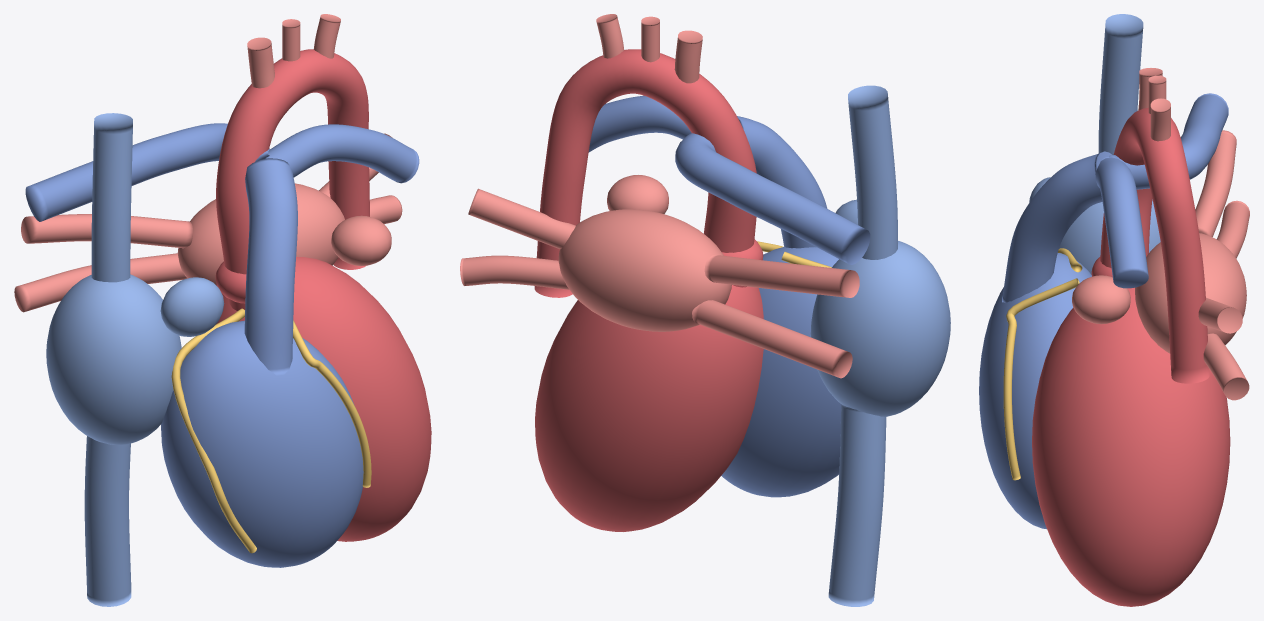
File: HEART.glb
3 views of the same model, side by side, from view 1: azimuth 30°, elevation 25°; view 2: azimuth 150°, elevation 25°; view 3: azimuth 270°, elevation 25° (orthographic). The views are drawn at different scales.
Visible parts, largest first — view 1: static, ventricles, atria; view 2: static, ventricles, atria; view 3: ventricles, static, atria.
Part boxes in pixels (box(x1,y1,x2,y2)): static: box(14, 14, 419, 606); ventricles: box(161, 257, 431, 567); atria: box(46, 183, 391, 444); static: box(460, 14, 897, 606); ventricles: box(535, 241, 841, 531); atria: box(558, 175, 950, 416); ventricles: box(979, 248, 1230, 606); static: box(1002, 14, 1249, 400); atria: box(1029, 177, 1246, 353).
Bounding box in the file's own units: 1.37 × 1.7 × 0.8194.
